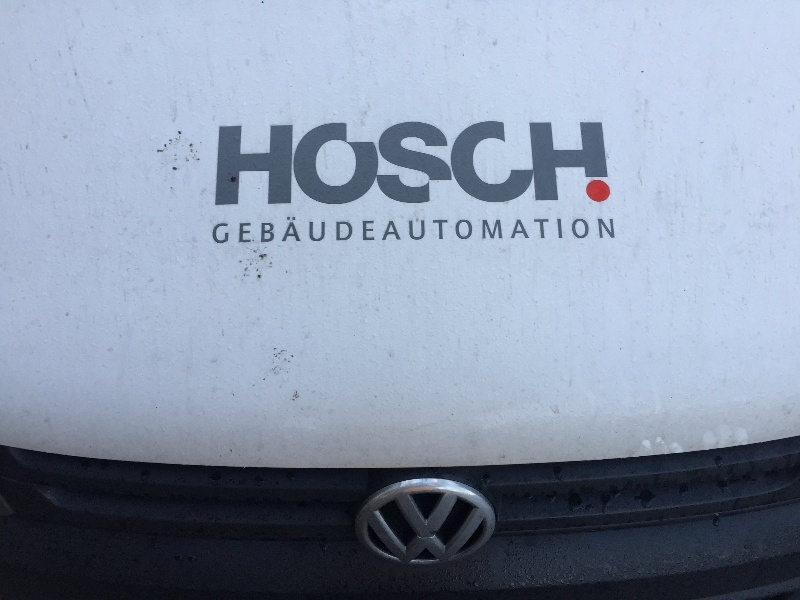text: (225, 116, 240, 212), (241, 116, 256, 212), (257, 116, 272, 212), (273, 116, 288, 212), (289, 116, 304, 212), (305, 116, 320, 212), (321, 116, 336, 212), (337, 116, 352, 212), (353, 116, 368, 212), (369, 116, 384, 212), (385, 116, 400, 212), (401, 116, 416, 212), (417, 116, 432, 212), (433, 116, 448, 212), (449, 116, 464, 212), (465, 116, 480, 212), (481, 116, 496, 212), (497, 116, 512, 212), (513, 116, 528, 212), (529, 116, 544, 212), (545, 116, 560, 212), (561, 116, 576, 212), (577, 116, 592, 212), (593, 116, 608, 212), (609, 116, 619, 212), (217, 116, 224, 212), (225, 214, 240, 248), (241, 214, 256, 248), (257, 214, 272, 248), (273, 214, 288, 248), (289, 214, 304, 248), (305, 214, 320, 248), (321, 214, 336, 248), (337, 214, 352, 248), (353, 214, 368, 248), (369, 214, 384, 248), (385, 214, 400, 248), (401, 214, 416, 248), (417, 214, 432, 248), (433, 214, 448, 248), (449, 214, 464, 248), (465, 214, 480, 248), (481, 214, 496, 248), (497, 214, 512, 248), (513, 214, 528, 248), (529, 214, 544, 248), (545, 214, 560, 248), (561, 214, 576, 248), (577, 214, 592, 248), (593, 214, 608, 248), (211, 214, 224, 248), (609, 214, 620, 248)
